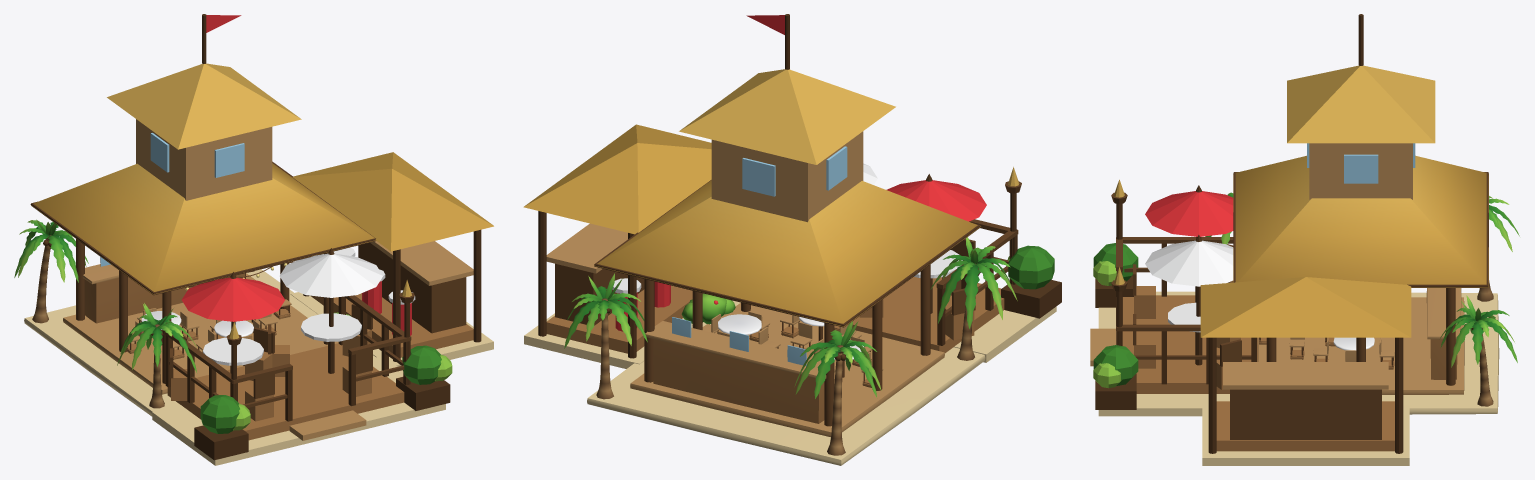
File: Restaurant_L3.obj
The picture shows the model from 3 angles, left to right: view 1: azimuth 30°, elevation 25°; view 2: azimuth 150°, elevation 25°; view 3: azimuth 270°, elevation 25°; orthographic projection. The views are drawn at different scales.
Parts seen in each view (by area): view 1: Restaurant_L3; view 2: Restaurant_L3; view 3: Restaurant_L3.
Boxes of the visible parts, bbox=[...] form: Restaurant_L3: bbox=[14, 14, 493, 465]; Restaurant_L3: bbox=[523, 14, 1061, 465]; Restaurant_L3: bbox=[1090, 14, 1519, 465].
Size of the model in its own units: 6.14 by 5.48 by 6.23.
Materials: 1 (1 with a texture image).
